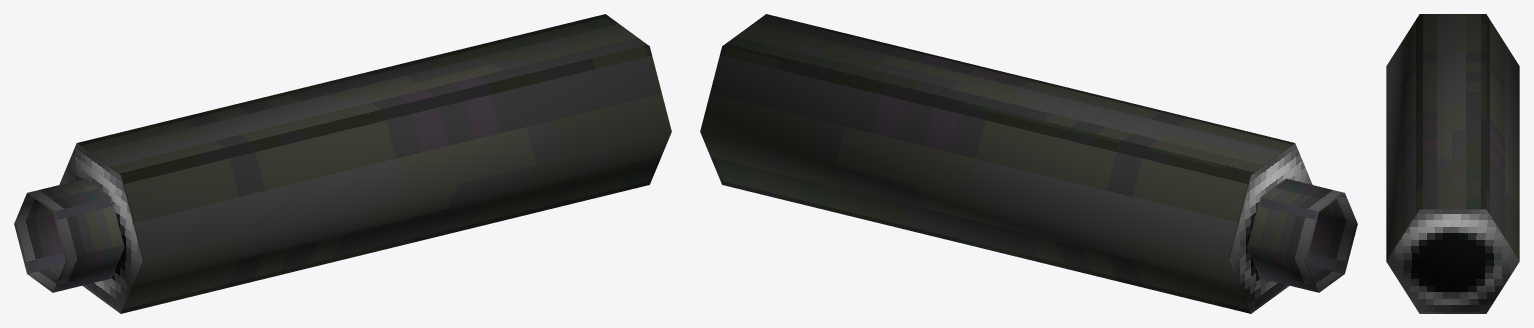
Rendered from sig_commando__N002_silencer_v0000.glb.
3 renders of one model, left to right at view 1: azimuth 30°, elevation 25°; view 2: azimuth 150°, elevation 25°; view 3: azimuth 270°, elevation 25°, orthographic. The views are drawn at different scales.
Visible parts, largest first — view 1: N002_silencer_v0000; view 2: N002_silencer_v0000; view 3: N002_silencer_v0000.
Part boxes in pixels (x1,y1,x2,y2): N002_silencer_v0000: [14, 14, 671, 313]; N002_silencer_v0000: [700, 14, 1357, 313]; N002_silencer_v0000: [1386, 14, 1519, 313].
Size of the model in its own units: 0.1703 by 0.0384 by 0.0443.
2 materials, 2 textured.
